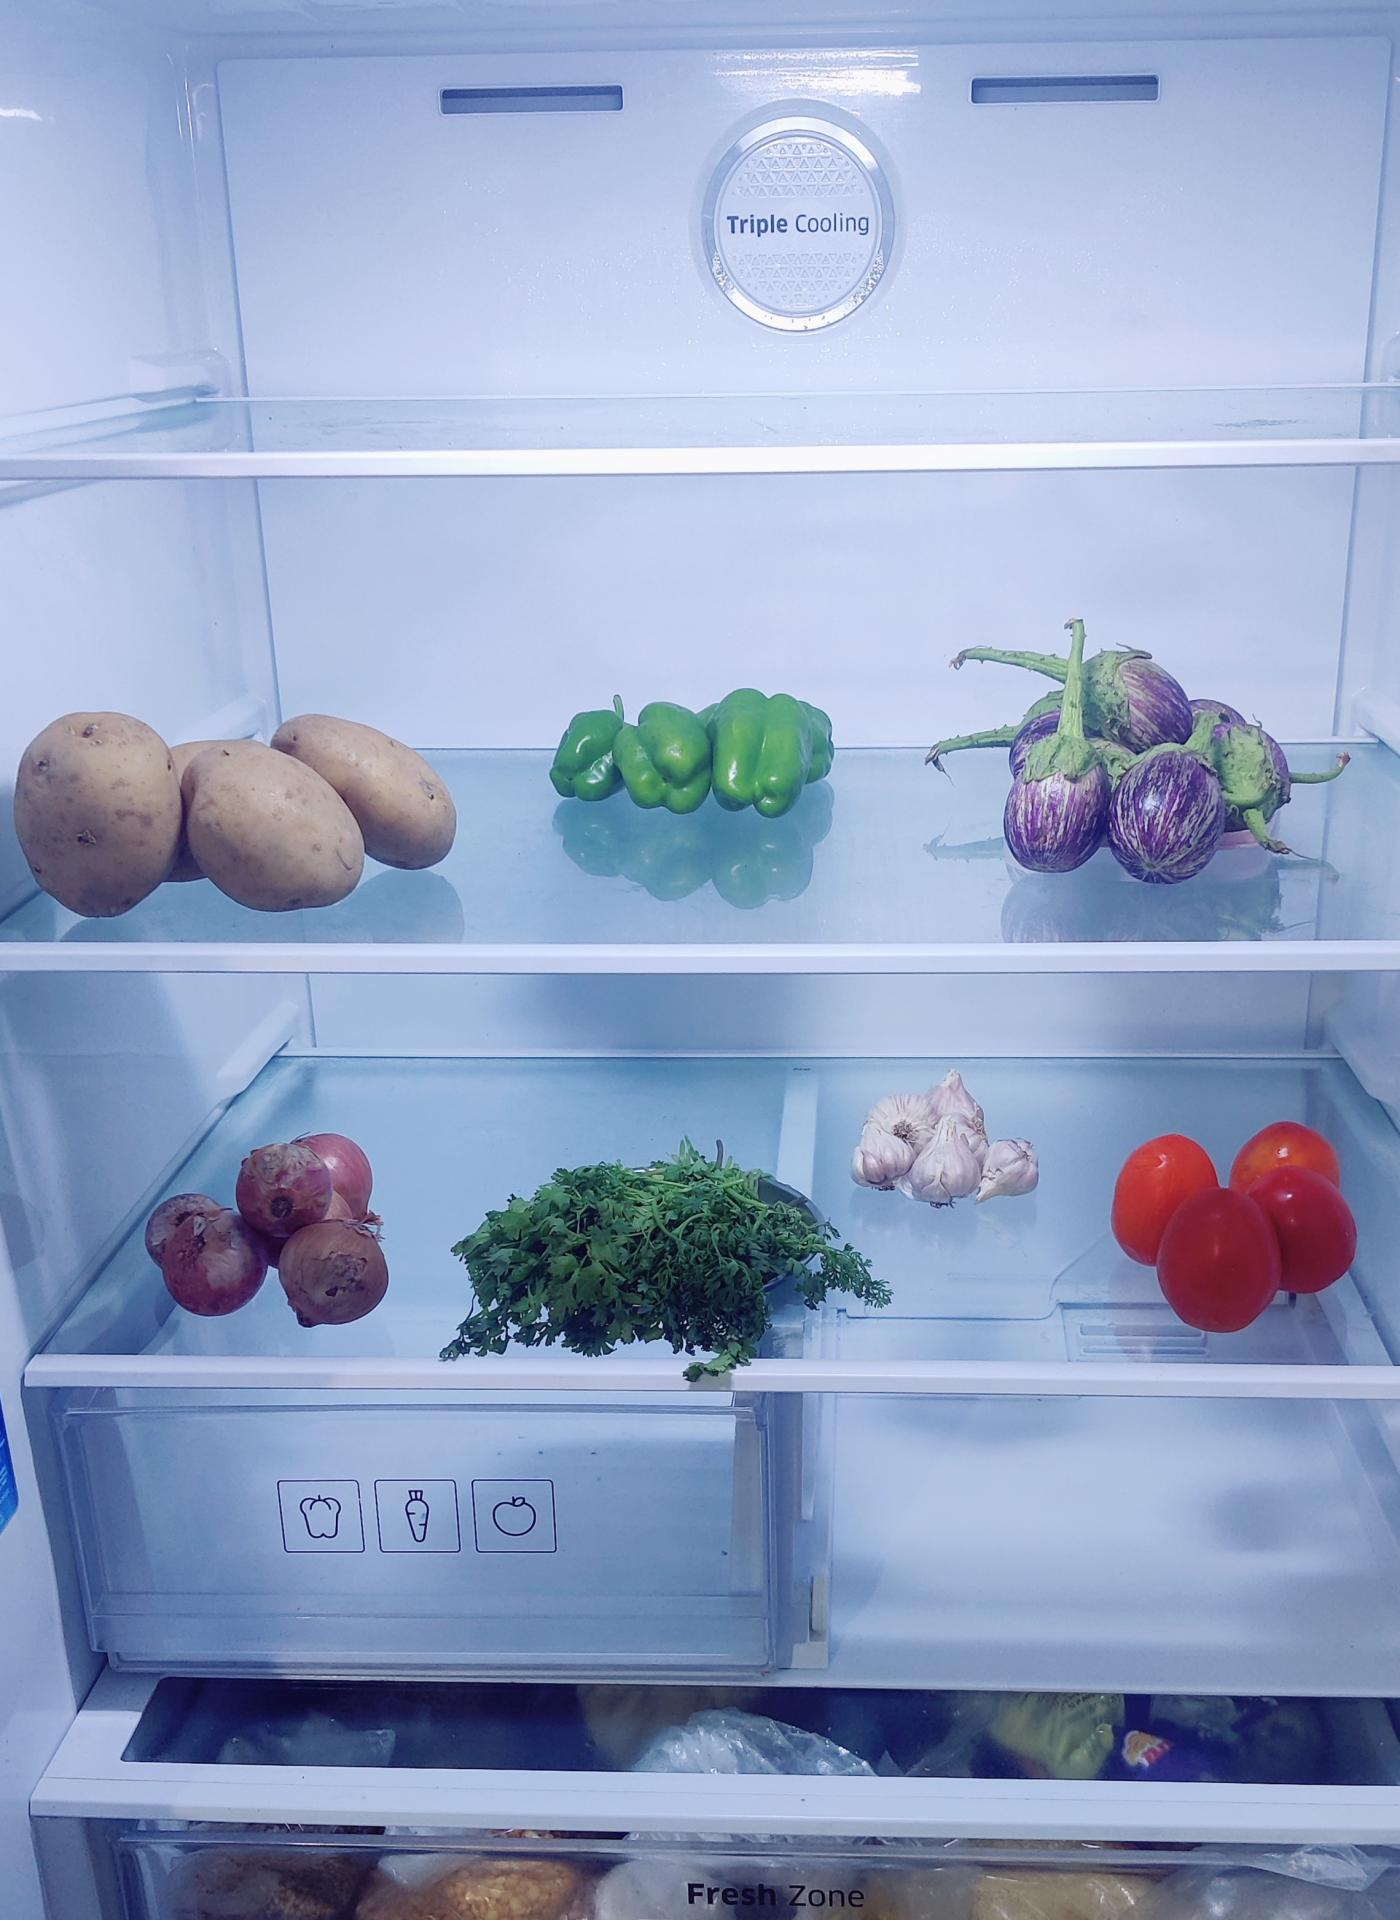brinjal: (971, 631, 1294, 872)
capsicum: (547, 695, 832, 823)
coriander: (449, 1151, 872, 1349)
garlic: (859, 1082, 1045, 1216)
onion: (152, 1131, 397, 1327)
potato: (10, 702, 452, 921)
tomato: (1111, 1122, 1361, 1337)
